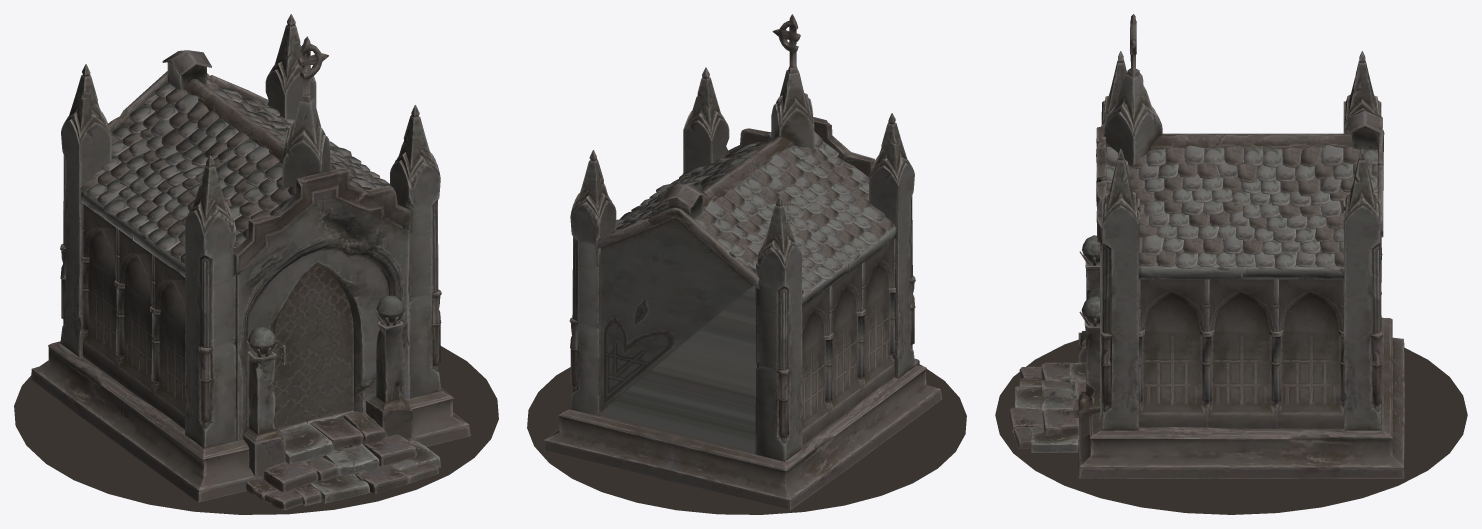
The model's file is t_cripta.glb.
3 renders of one model, left to right at view 1: azimuth 30°, elevation 25°; view 2: azimuth 150°, elevation 25°; view 3: azimuth 270°, elevation 25°, orthographic. The views are drawn at different scales.
Visible parts, largest first — view 1: back_low.001_sclep_0; view 2: back_low.001_sclep_0; view 3: back_low.001_sclep_0.
Boxes of the visible parts, x1=… form: back_low.001_sclep_0: x1=14, y1=14, x2=498, y2=514; back_low.001_sclep_0: x1=527, y1=14, x2=966, y2=514; back_low.001_sclep_0: x1=995, y1=14, x2=1467, y2=514.
Bounding box in the file's own units: 4.48 × 4.2 × 4.48.
Materials: 2 (1 with a texture image).
